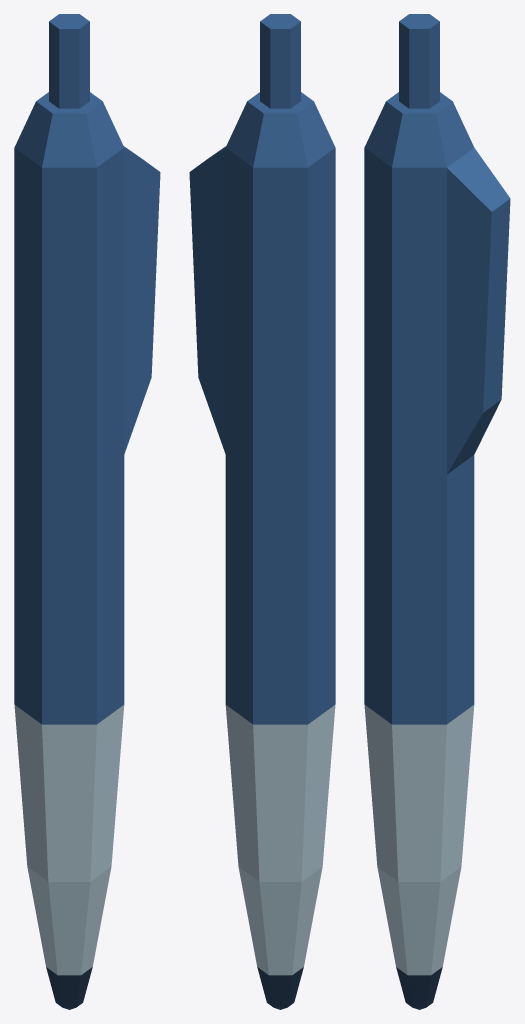
File: SM_Prop_Pen_03.glb
The picture shows the model from 3 angles, left to right: view 1: azimuth 30°, elevation 25°; view 2: azimuth 150°, elevation 25°; view 3: azimuth 330°, elevation 25°; orthographic projection.
Visible parts, largest first — view 1: SM_Prop_Pen_03; view 2: SM_Prop_Pen_03; view 3: SM_Prop_Pen_03.
Part boxes in pixels (bbox=[...]): SM_Prop_Pen_03: bbox=[14, 14, 160, 1009]; SM_Prop_Pen_03: bbox=[189, 14, 335, 1009]; SM_Prop_Pen_03: bbox=[364, 14, 510, 1009].
Size of the model in its own units: 0.0285 by 0.2191 by 0.0221.
1 material, 1 textured.
